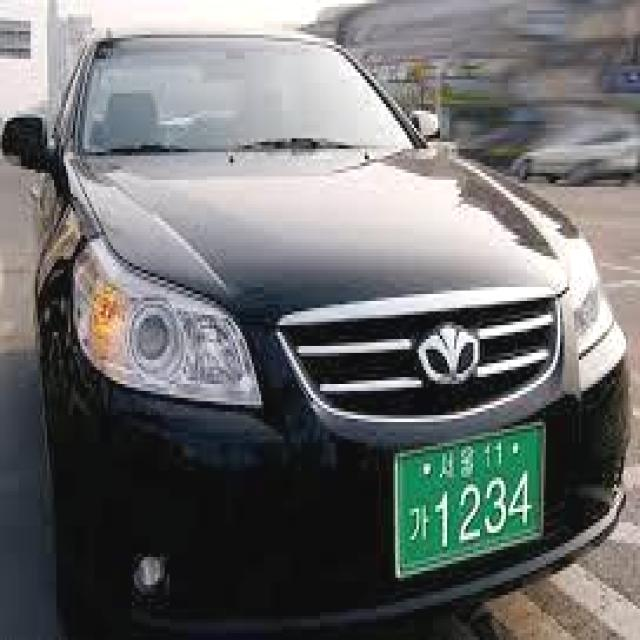car: (0, 17, 640, 639)
illegal_plate: (382, 418, 554, 580)
